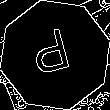P_S: (31, 26, 79, 84)
